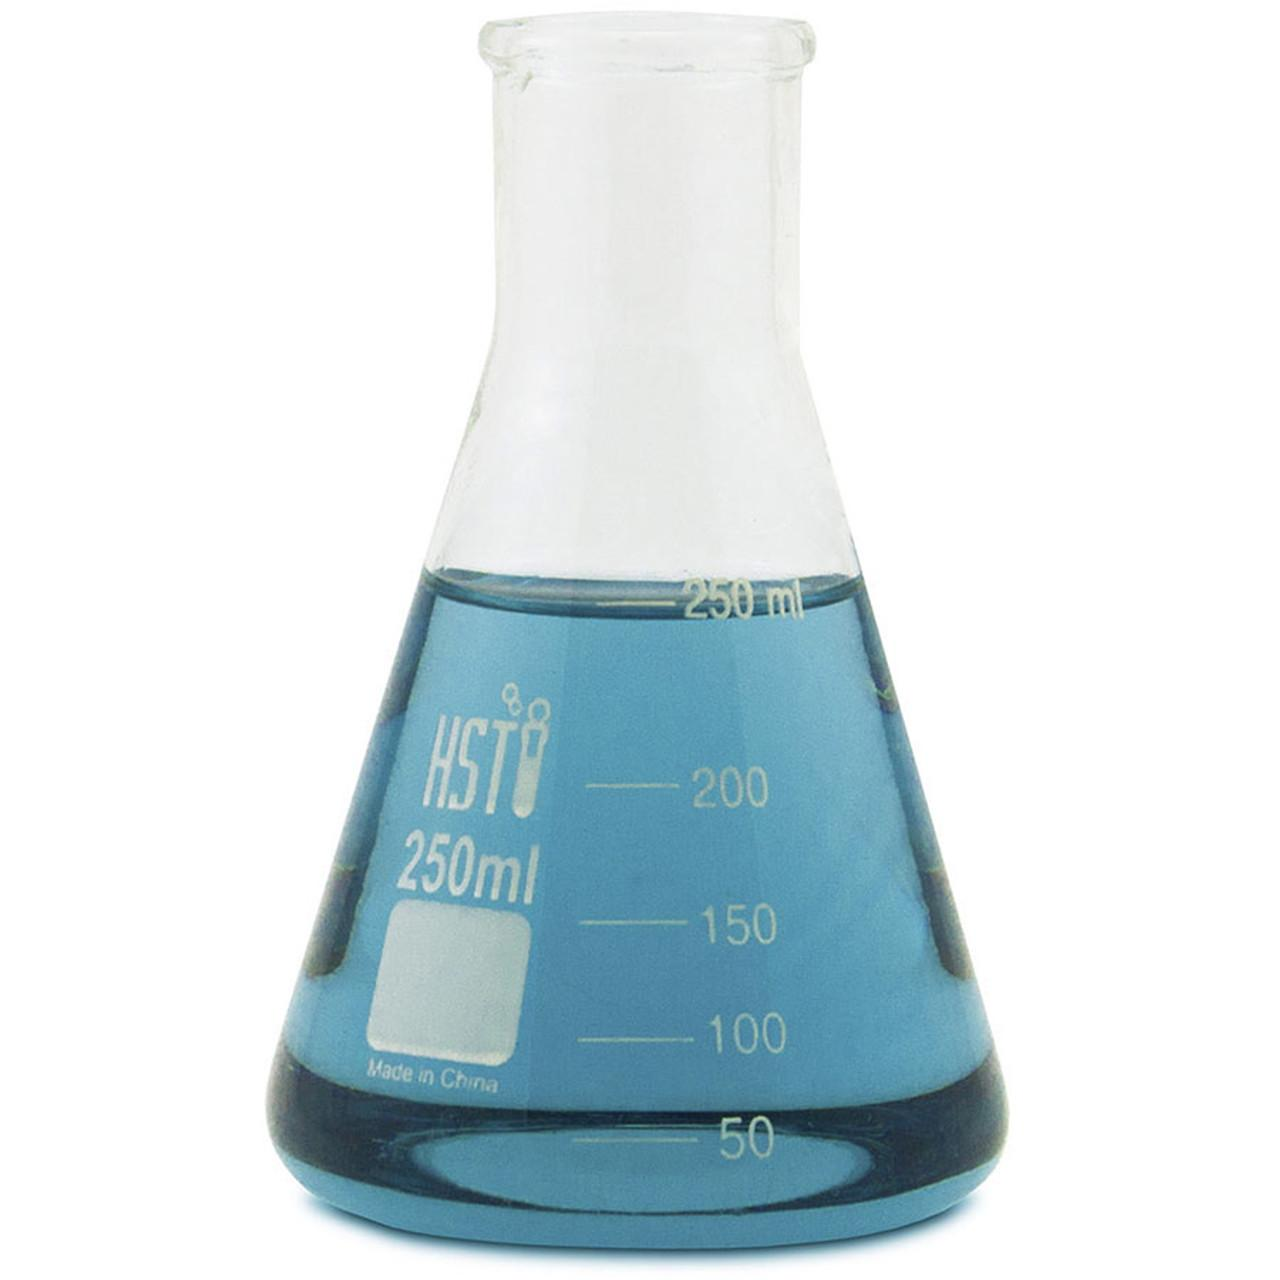Titrarion: (265, 18, 1017, 1252)
